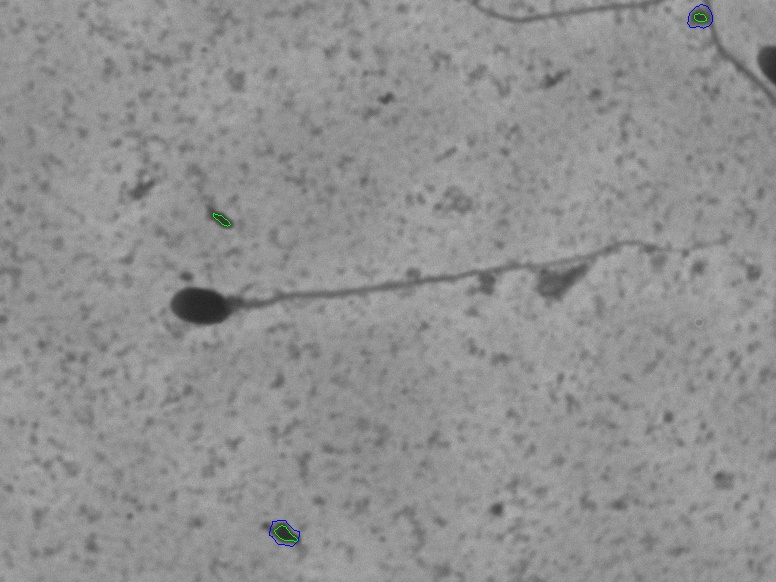Abnormal: (125, 226, 737, 337)
